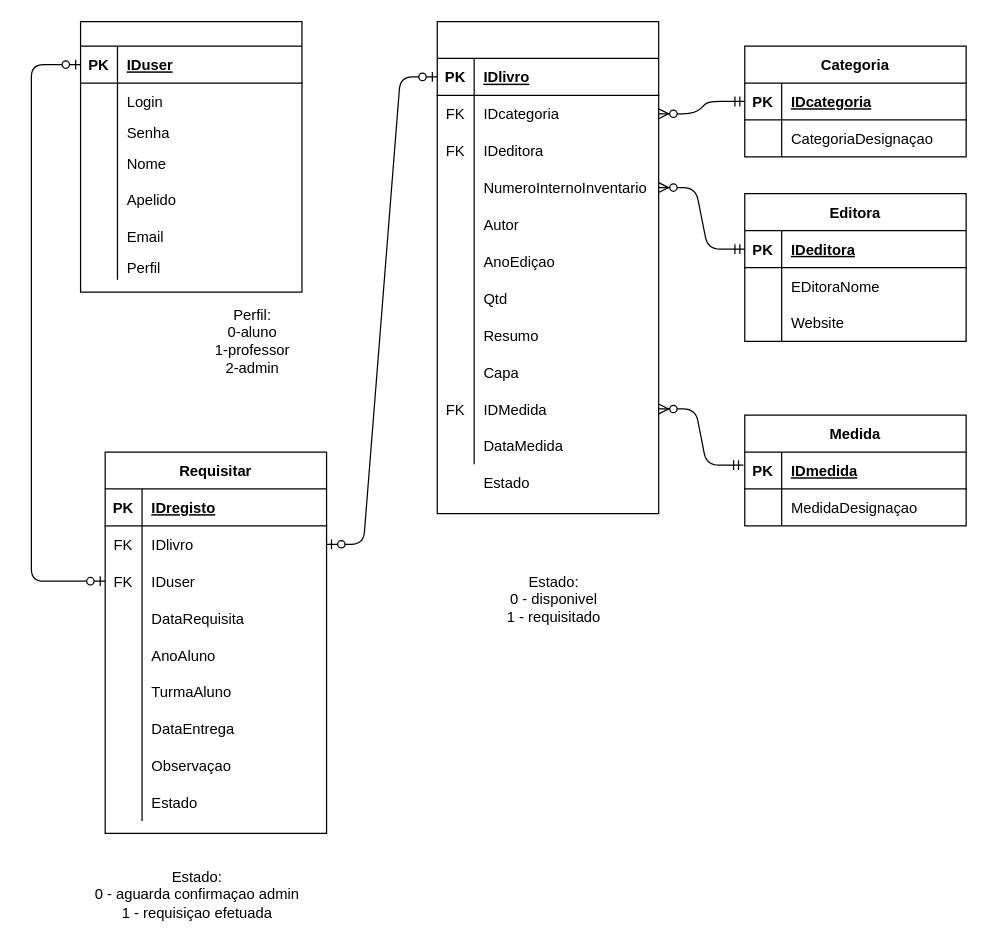
Some shapes in this 988 by 942 pixel diagram are drawn without their labels. Here are the shapes that lost their labels. From the top down, the box of each, then its label:
(79, 20, 302, 292): Utilizadores
(436, 20, 659, 514): Livros
